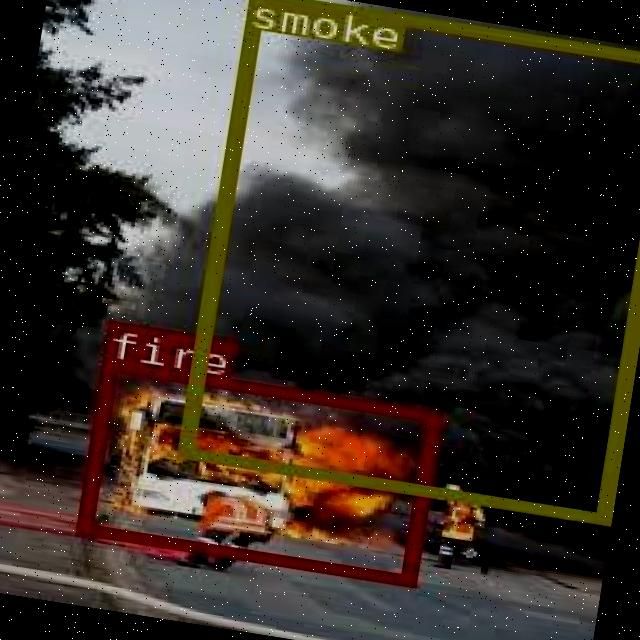fire: (74, 356, 440, 584)
smoke: (175, 0, 640, 521)
